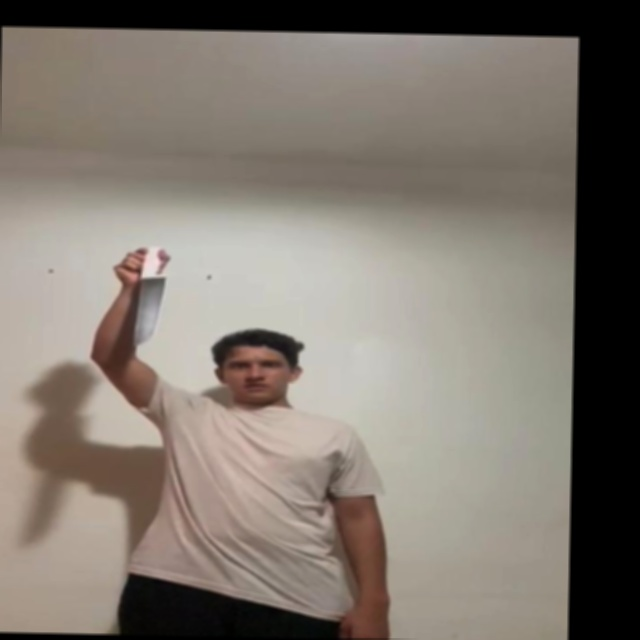Sharp-Object: (133, 275, 162, 342)
